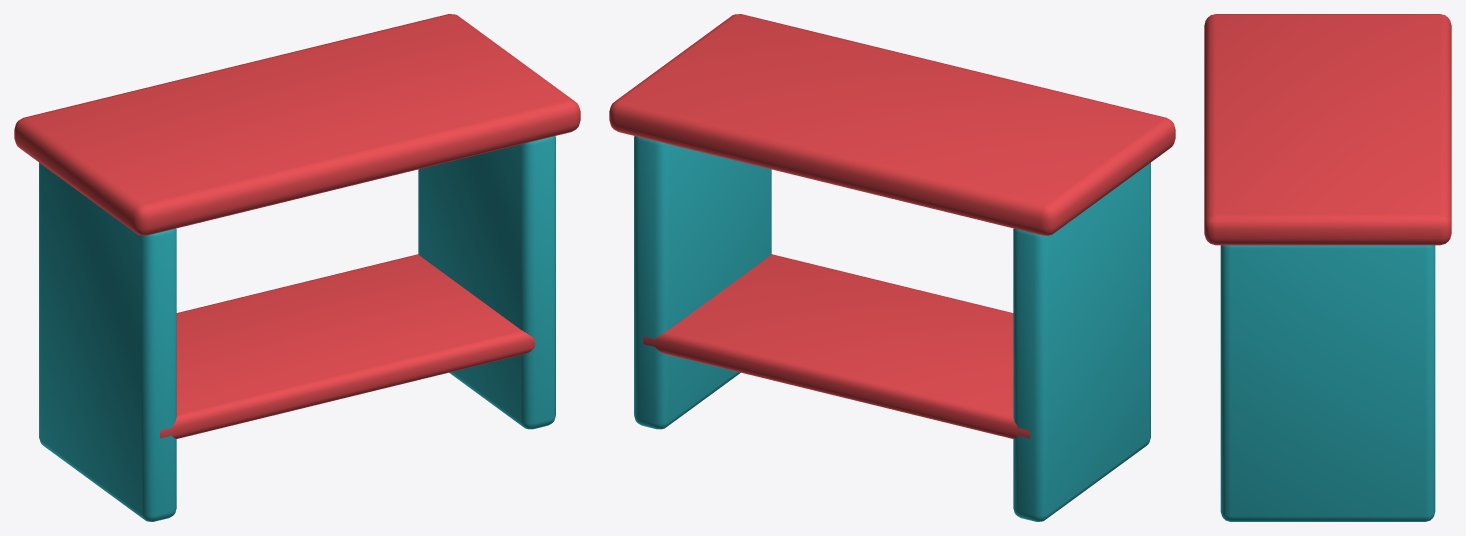
Rendered from banco_prateleira_baixa_moderna.glb.
The picture shows the model from 3 angles, left to right: view 1: azimuth 30°, elevation 25°; view 2: azimuth 150°, elevation 25°; view 3: azimuth 270°, elevation 25°; orthographic projection. The views are drawn at different scales.
Parts seen in each view (by area): view 1: banco_prateleira_baixa_moderna; view 2: banco_prateleira_baixa_moderna; view 3: banco_prateleira_baixa_moderna.
Part boxes in pixels (bbox=[...]): banco_prateleira_baixa_moderna: bbox=[14, 14, 580, 521]; banco_prateleira_baixa_moderna: bbox=[609, 14, 1175, 521]; banco_prateleira_baixa_moderna: bbox=[1204, 14, 1451, 521].
Bounding box in the file's own units: 0.6 × 0.42 × 0.3.
1 material, 1 textured.
